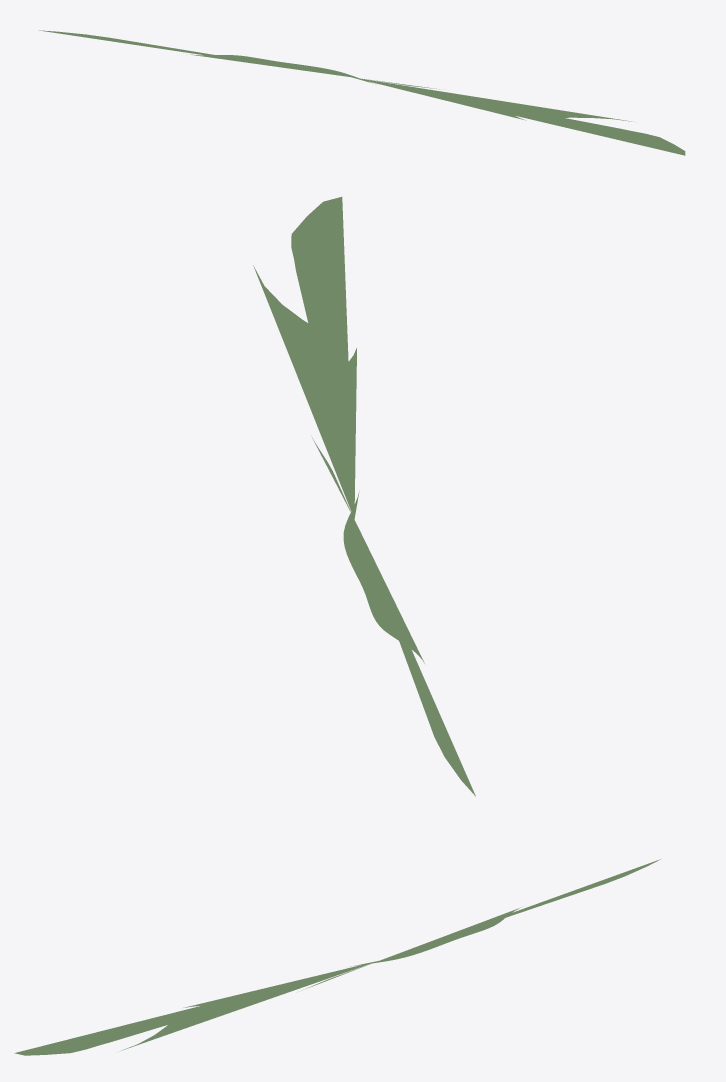
Rendered from c_1649_17831_parks.glb.
The picture shows the model from 3 angles, top to bottom: view 1: azimuth 30°, elevation 25°; view 2: azimuth 150°, elevation 25°; view 3: azimuth 270°, elevation 25°; orthographic projection. The views are drawn at different scales.
Visible parts, largest first — view 1: geometry_0; view 2: geometry_0; view 3: geometry_0.
Part boxes in pixels (<box>): geometry_0: <box>39,30,685,155</box>; geometry_0: <box>253,197,475,796</box>; geometry_0: <box>14,859,660,1055</box>.
Size of the model in its own units: 408 by 0 by 574.
